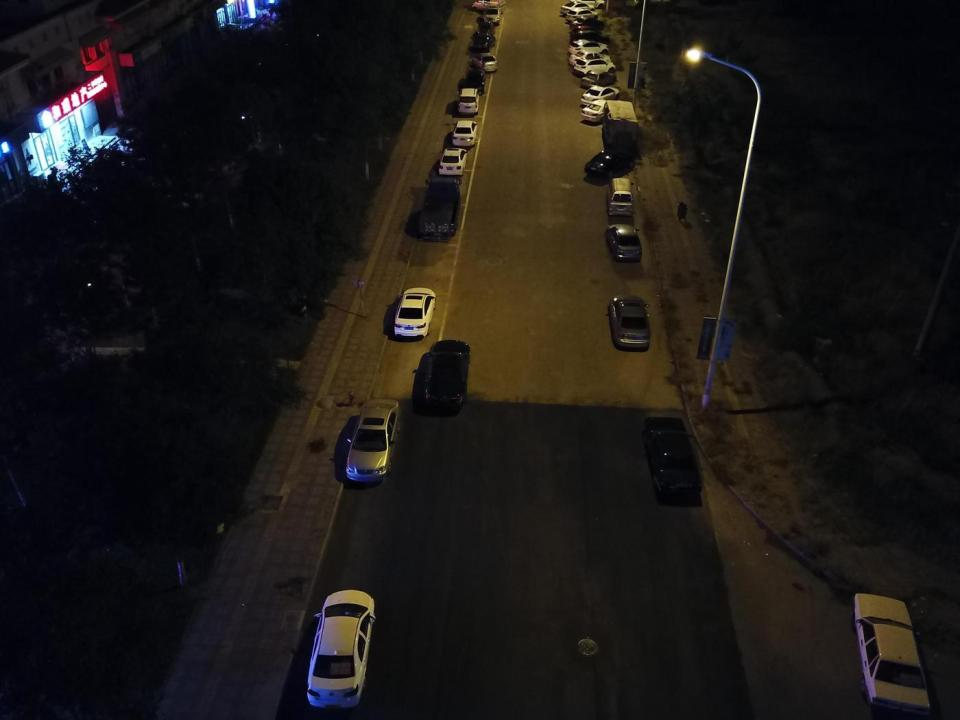car: (850, 589, 933, 716), (303, 586, 376, 710), (638, 414, 703, 502), (346, 398, 399, 484), (420, 338, 471, 413), (605, 292, 655, 351), (391, 288, 439, 337), (586, 144, 637, 177), (604, 219, 644, 260), (580, 81, 620, 106), (579, 99, 620, 123), (437, 147, 468, 177), (572, 56, 615, 75), (451, 120, 479, 148), (569, 50, 612, 68), (581, 70, 620, 89), (456, 88, 481, 115), (570, 39, 609, 56), (570, 30, 609, 45), (466, 68, 489, 92), (568, 25, 603, 40), (565, 9, 600, 24), (472, 53, 498, 73), (570, 17, 607, 31), (560, 1, 597, 15), (473, 33, 497, 51), (484, 3, 502, 24), (478, 20, 496, 38)
truck: (414, 178, 462, 242), (600, 97, 642, 147)
van: (608, 176, 637, 216), (471, 0, 506, 12)
